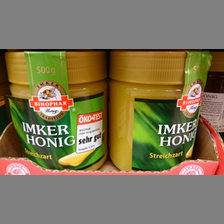honey: (4, 51, 110, 170), (112, 52, 212, 173)
